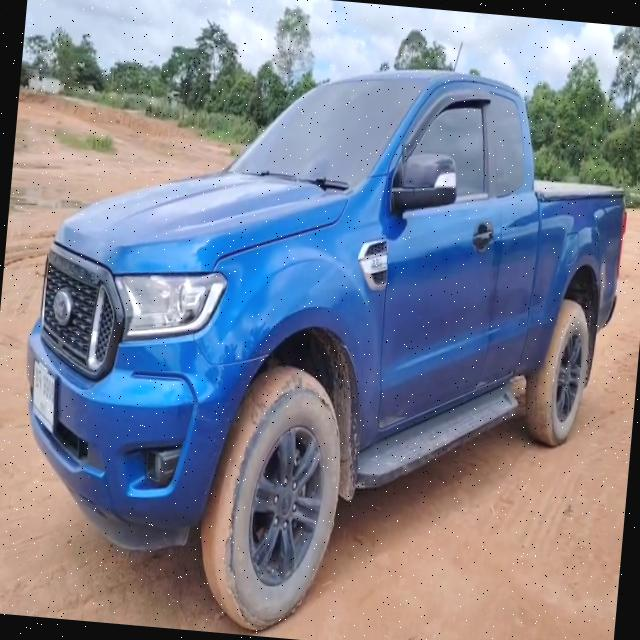Digit: (43, 373, 53, 402)
Licenseplate: (30, 357, 56, 433)
Provincename: (39, 397, 48, 419)
Thaichar: (34, 364, 41, 393)
